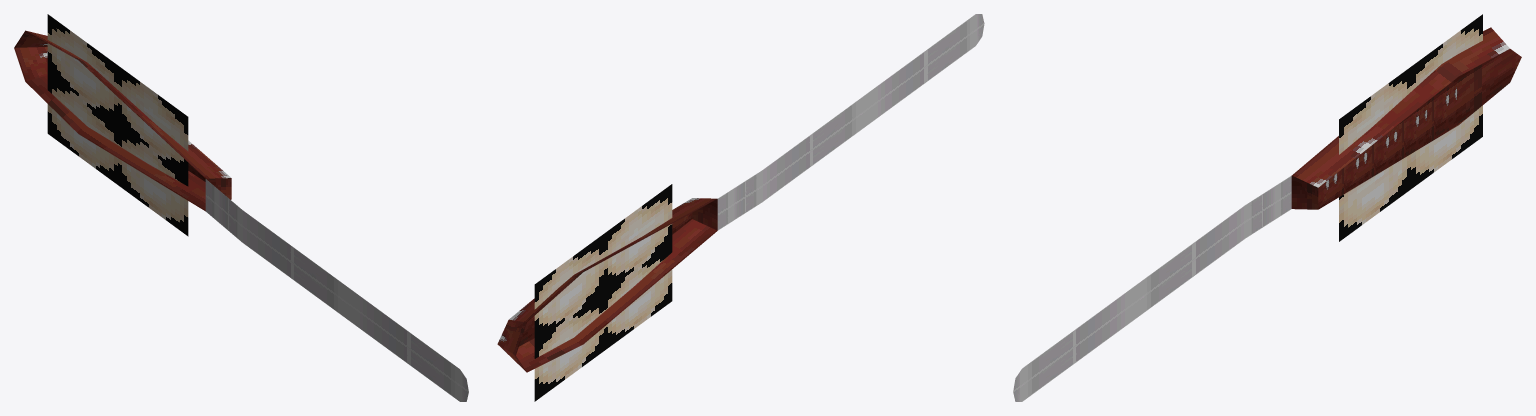
Rendered from 2779item2779.gltf.
The picture shows the model from 3 angles, left to right: view 1: azimuth 30°, elevation 25°; view 2: azimuth 150°, elevation 25°; view 3: azimuth 330°, elevation 25°; orthographic projection. The views are drawn at different scales.
Parts seen in each view (by area): view 1: 2779item2779; view 2: 2779item2779; view 3: 2779item2779.
Part boxes in pixels (box(x1,y1,x2,y2)): 2779item2779: box(14, 14, 468, 401); 2779item2779: box(497, 14, 984, 401); 2779item2779: box(1013, 14, 1521, 401).
Bounding box in the file's own units: 0.0376 × 0.1143 × 0.8066.
3 materials, 3 textured.
